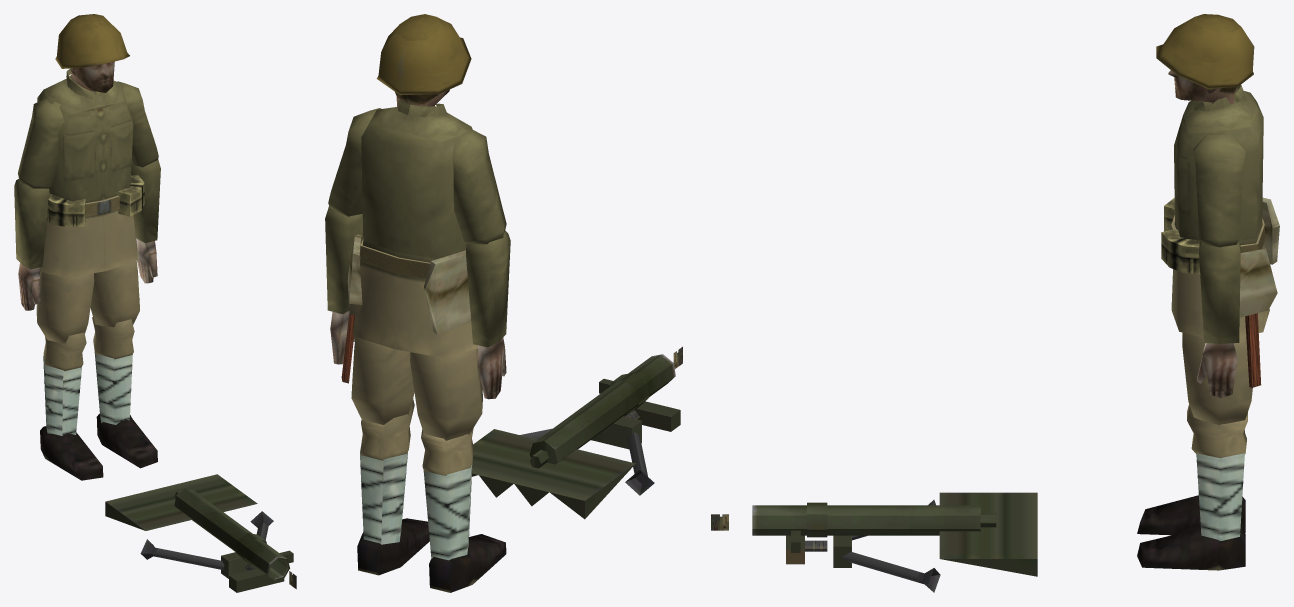
File: esrmortar50mm.dae
3 renders of one model, left to right at view 1: azimuth 30°, elevation 25°; view 2: azimuth 150°, elevation 25°; view 3: azimuth 270°, elevation 25°, orthographic. The views are drawn at different scales.
Parts seen in each view (by area): view 1: torso, head, mortarbase, lleg, rleg, rloarm, mortartube, rthigh, ruparm, mortarstand, lthigh, lloarm (+3 smaller); view 2: torso, mortarbase, head, lleg, rleg, rloarm, mortartube, rthigh, ruparm, lthigh, lloarm, mortarstand (+3 smaller); view 3: torso, mortartube, head, mortarbase, lleg, lloarm, luparm, lthigh, lfoot, mortarstand, rfoot.
Boxes of the visible parts, x1=… form: torso: x1=37, y1=69, x2=144, y2=277; head: x1=55, y1=14, x2=129, y2=92; mortarbase: x1=105, y1=474, x2=257, y2=530; lleg: x1=92, y1=317, x2=134, y2=424; rleg: x1=43, y1=332, x2=86, y2=435; rloarm: x1=14, y1=179, x2=49, y2=310; mortartube: x1=174, y1=489, x2=289, y2=580; rthigh: x1=36, y1=272, x2=94, y2=343; ruparm: x1=18, y1=98, x2=64, y2=188; mortarstand: x1=140, y1=511, x2=293, y2=592; lthigh: x1=90, y1=261, x2=139, y2=327; lloarm: x1=131, y1=159, x2=160, y2=283; torso: x1=341, y1=99, x2=477, y2=383; mortarbase: x1=472, y1=429, x2=635, y2=519; head: x1=376, y1=14, x2=471, y2=108; lleg: x1=360, y1=398, x2=414, y2=544; rleg: x1=421, y1=428, x2=473, y2=560; rloarm: x1=466, y1=230, x2=510, y2=399; mortartube: x1=529, y1=354, x2=675, y2=468; rthigh: x1=410, y1=348, x2=482, y2=440; ruparm: x1=452, y1=127, x2=506, y2=244; lthigh: x1=351, y1=337, x2=414, y2=424; lloarm: x1=325, y1=206, x2=363, y2=364; mortarstand: x1=520, y1=379, x2=680, y2=495; torso: x1=1161, y1=85, x2=1279, y2=387; mortartube: x1=752, y1=502, x2=996, y2=537; head: x1=1156, y1=14, x2=1254, y2=104; mortarbase: x1=939, y1=492, x2=1037, y2=576; lleg: x1=1187, y1=404, x2=1247, y2=540; lloarm: x1=1197, y1=240, x2=1240, y2=398; luparm: x1=1193, y1=134, x2=1245, y2=247; lthigh: x1=1182, y1=332, x2=1252, y2=425; lfoot: x1=1137, y1=528, x2=1245, y2=570; mortarstand: x1=786, y1=500, x2=940, y2=592; rfoot: x1=1137, y1=495, x2=1245, y2=535.
Size of the model in its own units: 4.74 by 13.89 by 14.55.
Materials: 1 (1 with a texture image).
